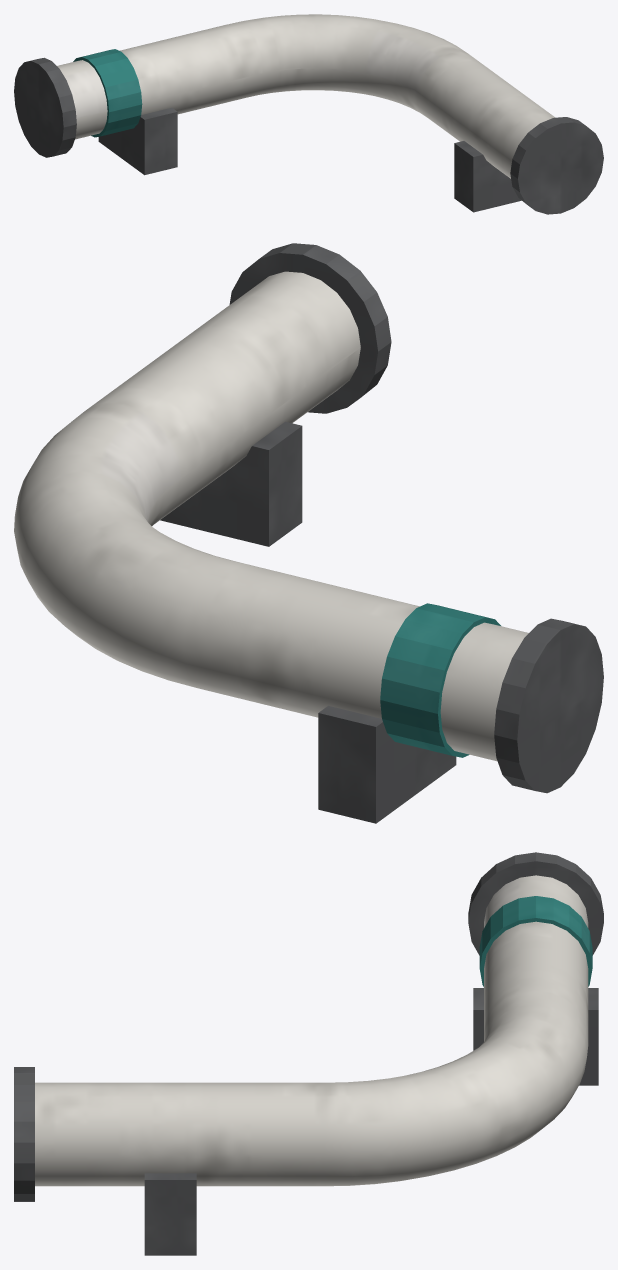
File: pipe-elbow.lod1.glb
3 views of the same model, one above another, from view 1: azimuth 30°, elevation 25°; view 2: azimuth 150°, elevation 25°; view 3: azimuth 270°, elevation 25° (orthographic). The views are drawn at different scales.
Parts seen in each view (by area): view 1: PipeElbow_white, PipeElbow_gunmetal, PipeElbow_teal; view 2: PipeElbow_white, PipeElbow_gunmetal, PipeElbow_teal; view 3: PipeElbow_white, PipeElbow_gunmetal, PipeElbow_teal.
Part boxes in pixels (bbox=[...]): PipeElbow_white: bbox=[57, 14, 554, 178]; PipeElbow_gunmetal: bbox=[14, 57, 603, 214]; PipeElbow_teal: bbox=[73, 49, 142, 137]; PipeElbow_white: bbox=[14, 271, 528, 761]; PipeElbow_gunmetal: bbox=[160, 243, 603, 823]; PipeElbow_teal: bbox=[380, 603, 500, 757]; PipeElbow_white: bbox=[35, 875, 588, 1186]; PipeElbow_gunmetal: bbox=[14, 852, 603, 1255]; PipeElbow_teal: bbox=[479, 896, 592, 986].
Size of the model in its own units: 1.13 by 0.33 by 1.13.
3 materials, 3 textured.
